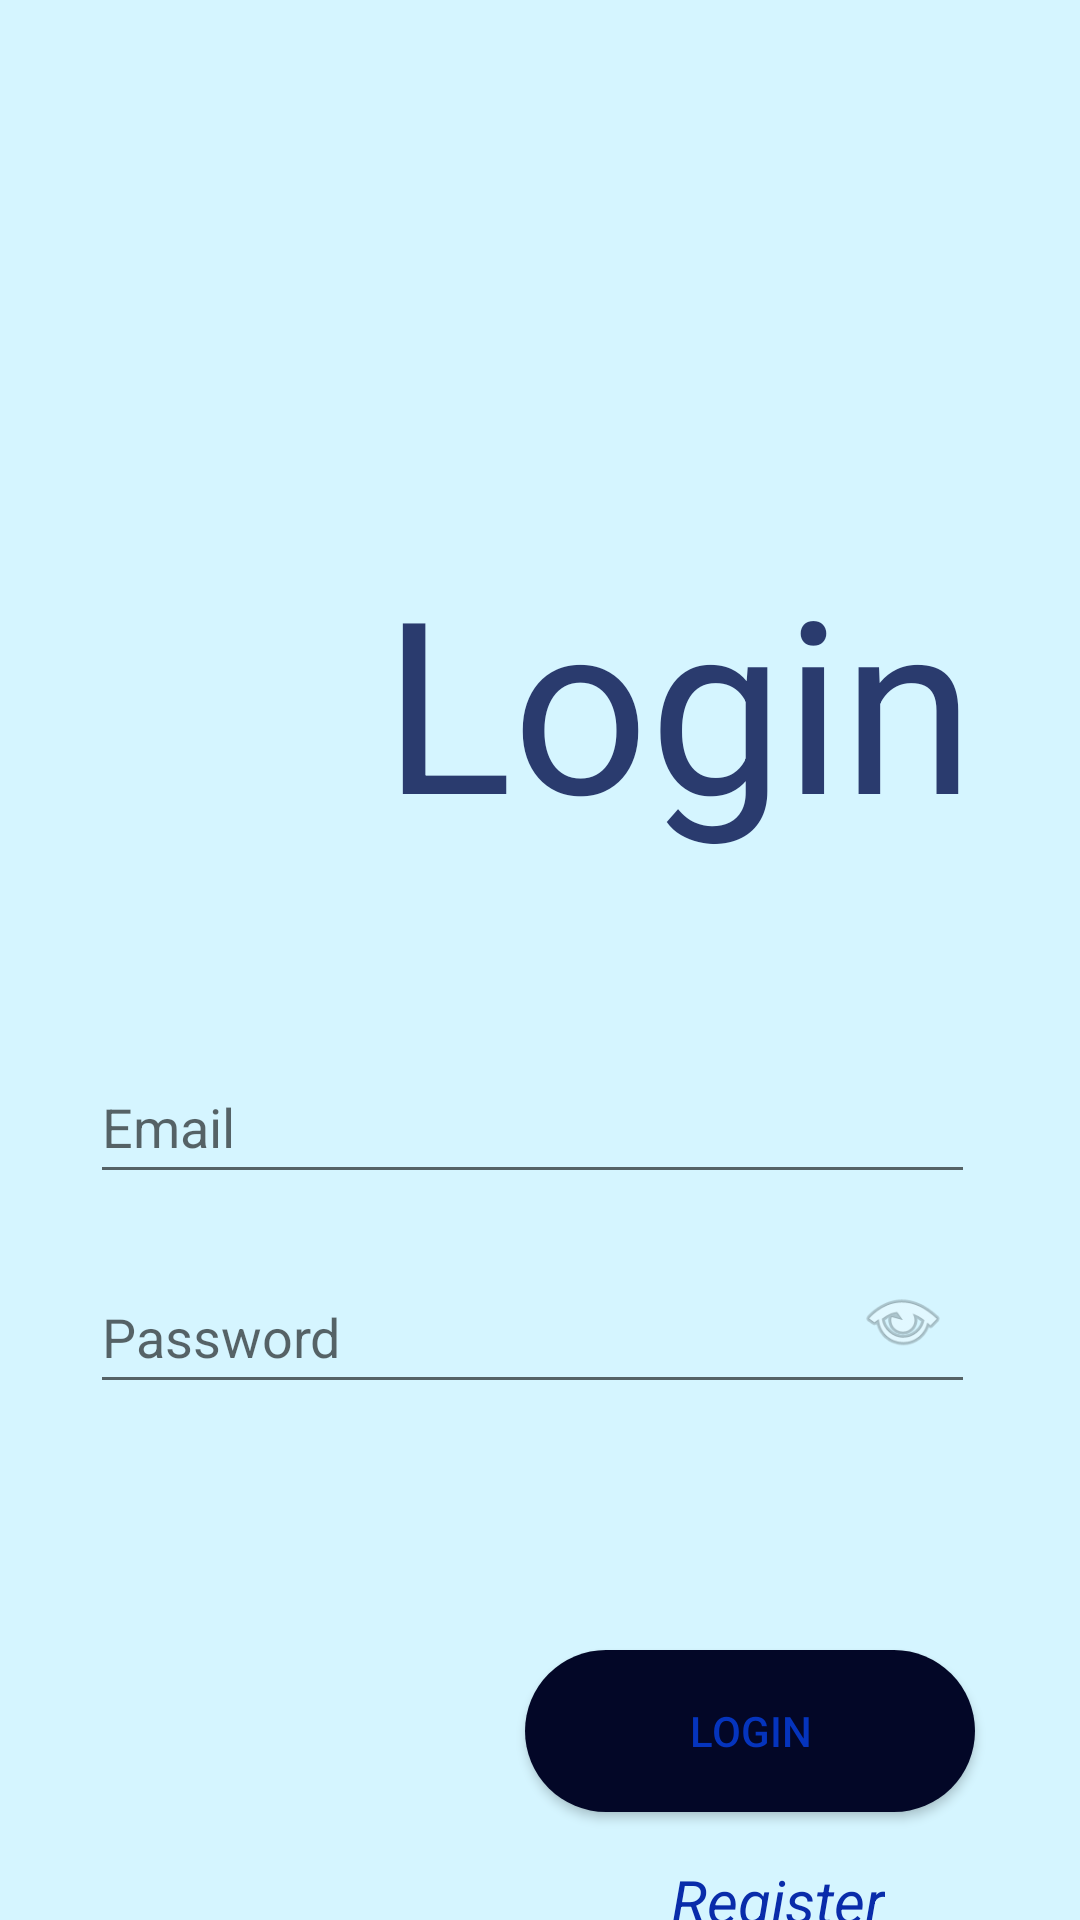

Screen size 1080 × 1920. Icon name, then its center in pixels as [x,y]:
view: [903,1322]
